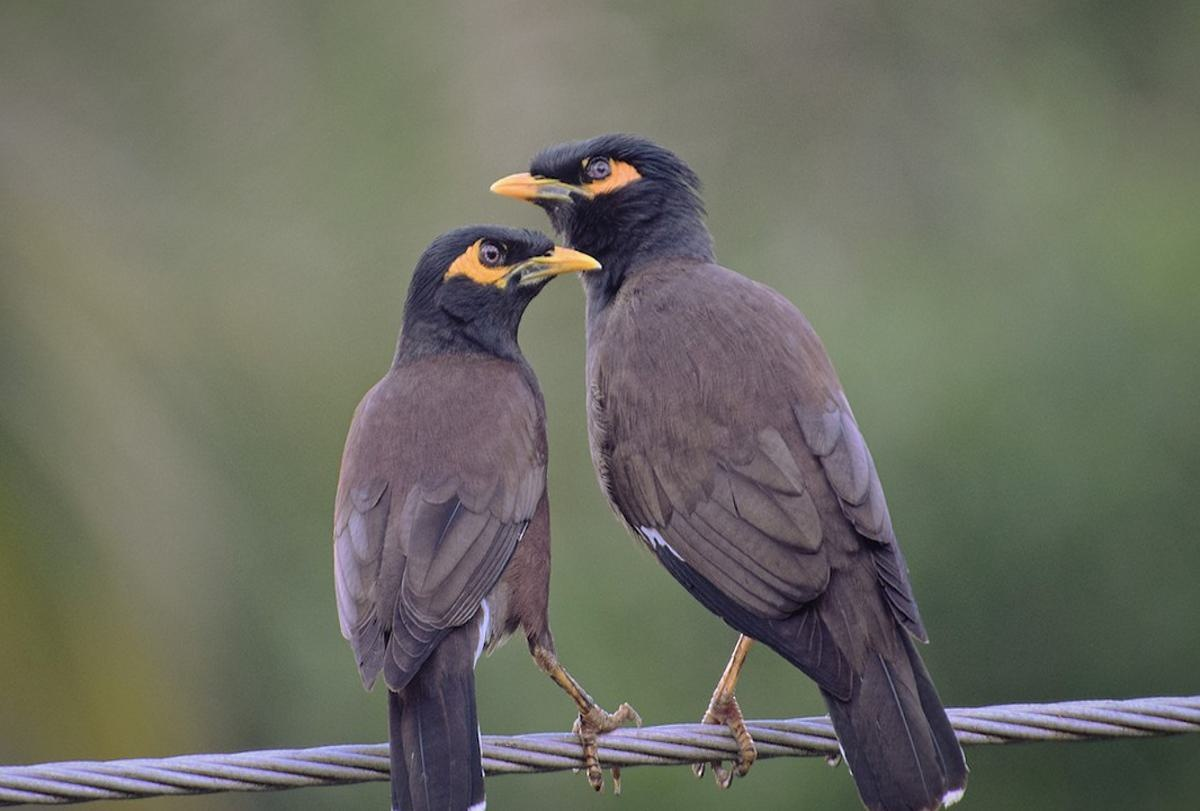myna: (490, 140, 939, 765), (330, 222, 606, 808)
